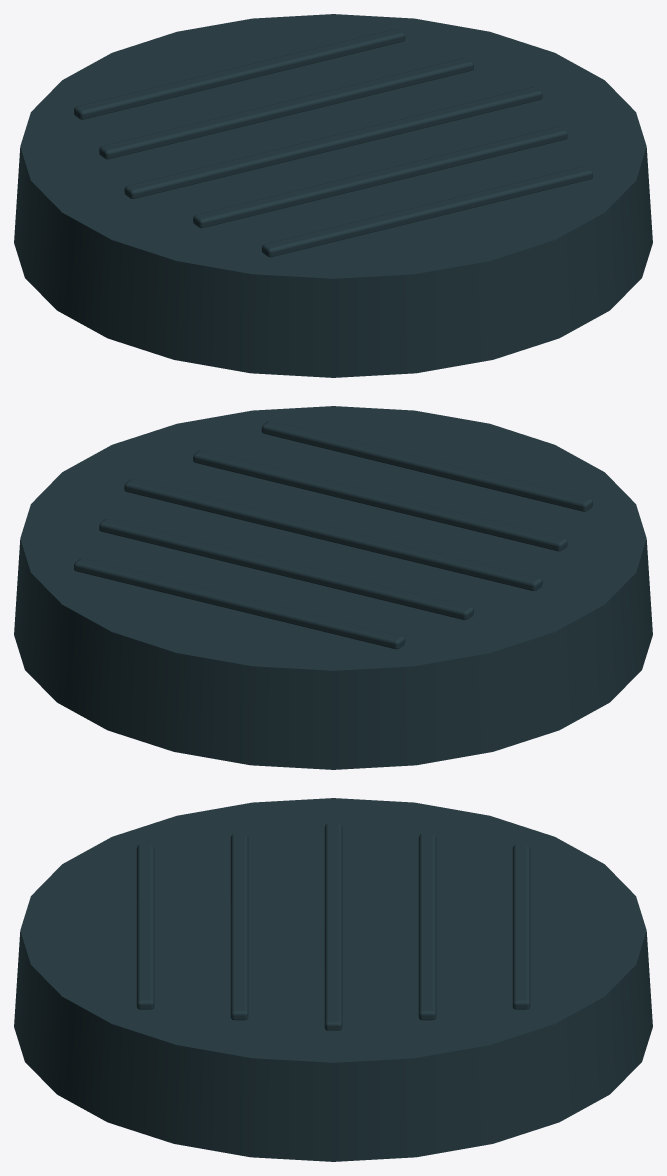
File: burnt.glb
The picture shows the model from 3 angles, top to bottom: view 1: azimuth 30°, elevation 25°; view 2: azimuth 150°, elevation 25°; view 3: azimuth 270°, elevation 25°; orthographic projection.
Parts seen in each view (by area): view 1: burnt; view 2: burnt; view 3: burnt.
Part boxes in pixels (x1,y1,x2,y2): burnt: (14,14,652,377); burnt: (14,406,652,769); burnt: (14,798,652,1161).
Bounding box in the file's own units: 0.51 × 0.092 × 0.51.
